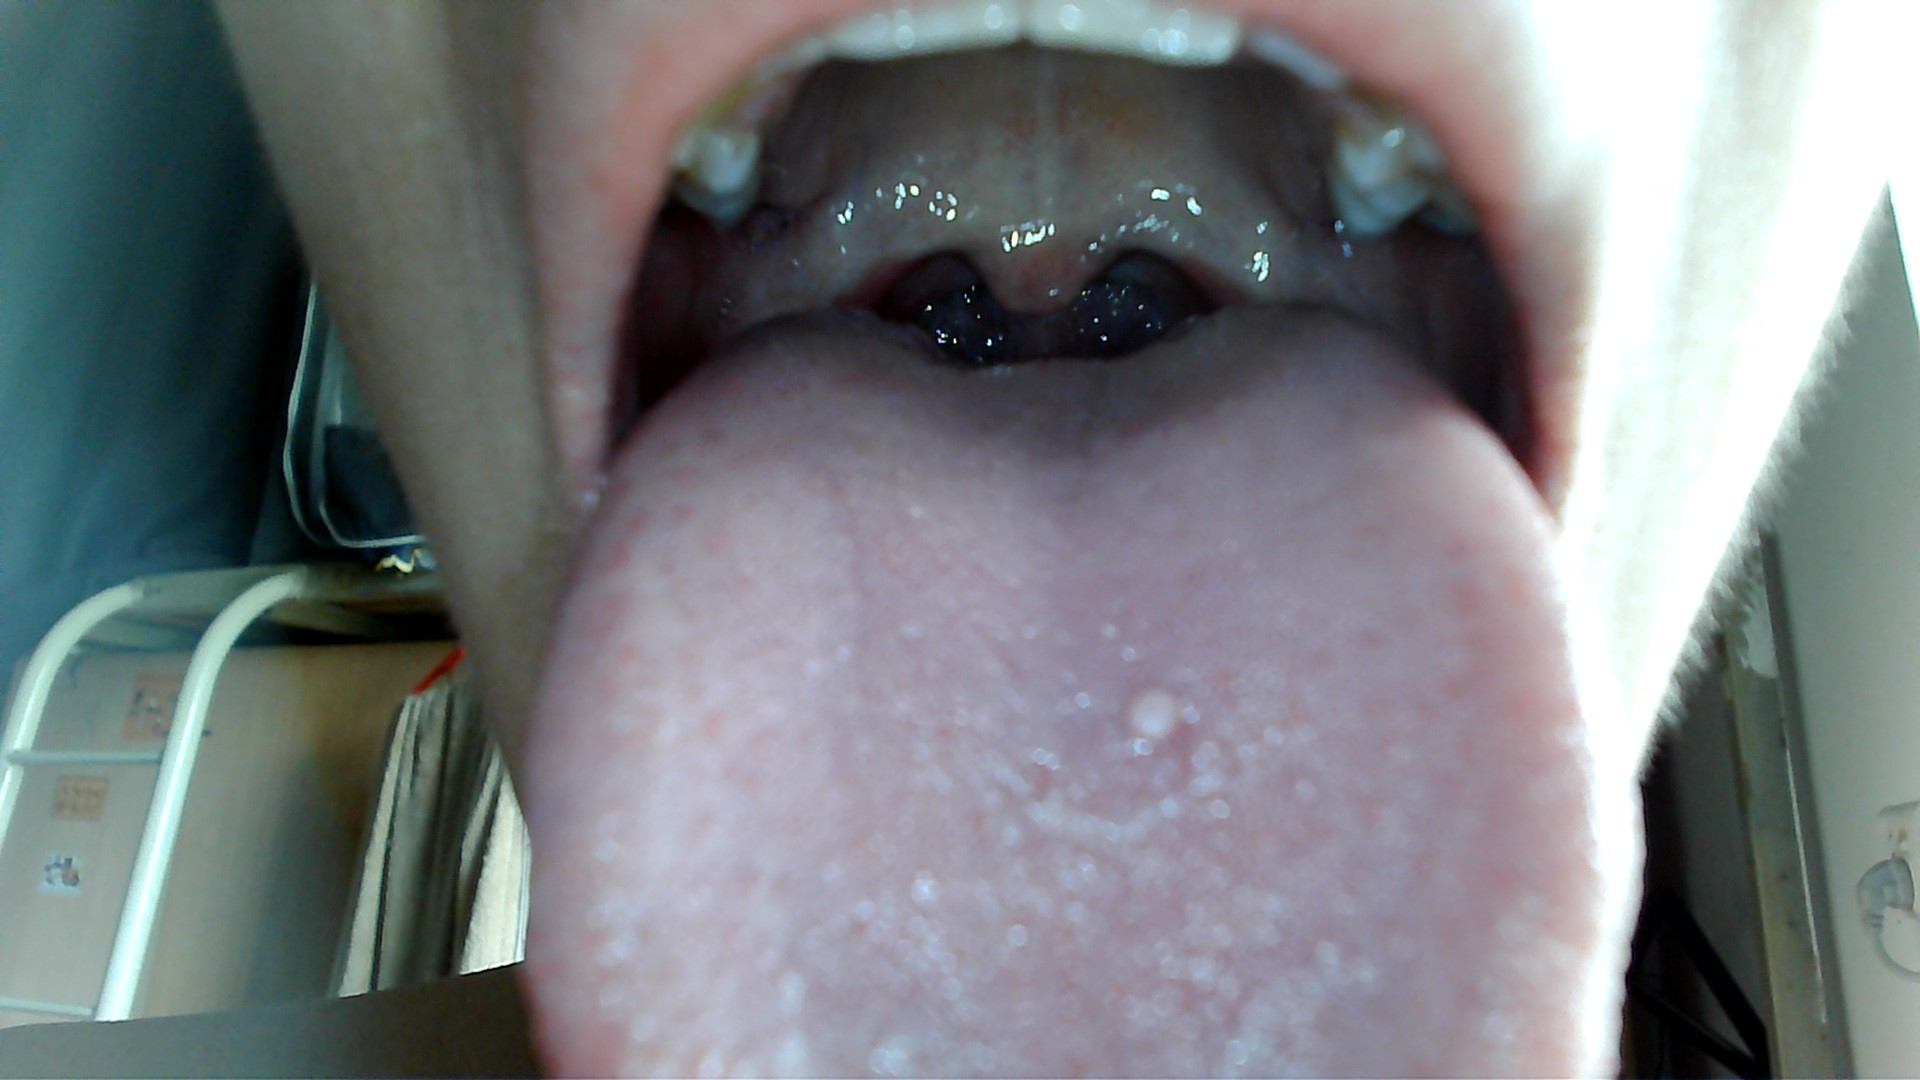throat: (1122, 236, 1254, 309), (847, 240, 967, 313)
